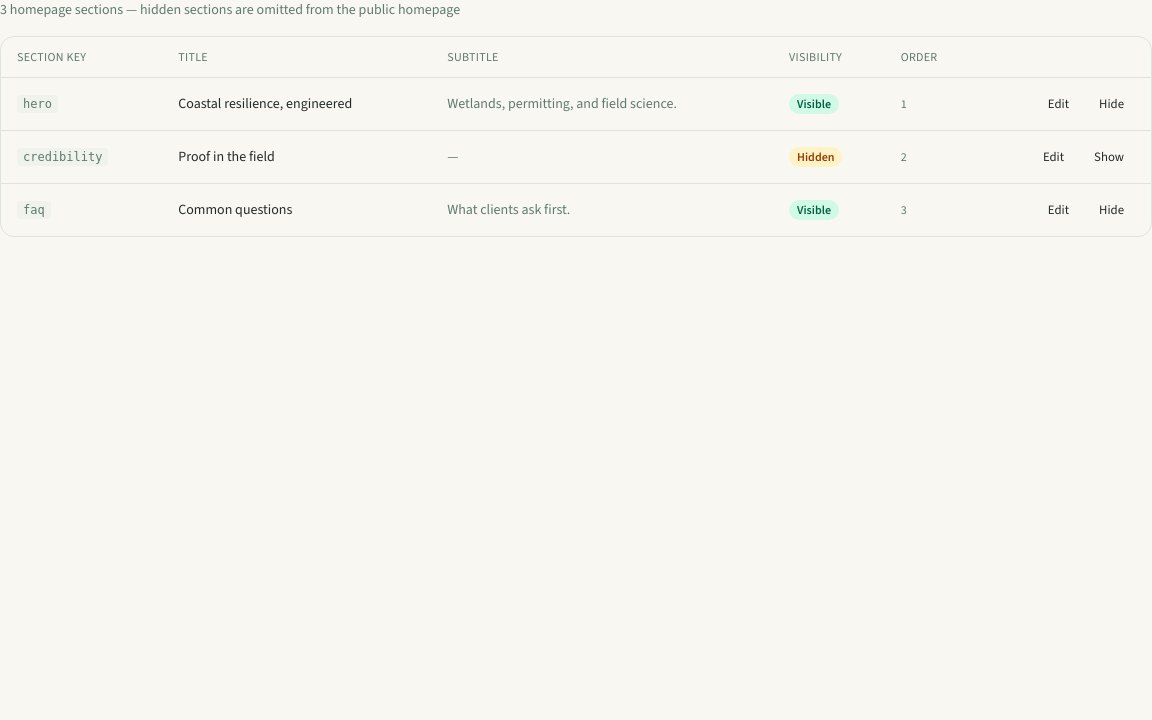
Test: SectionEditorDrawer › surfaces validation errors without touching the database
This screenshot has width=1152, height=720.
Step 1. Click the button with aria-label "Edit Common questions" → [1058, 210], box [1037,196,1080,224]
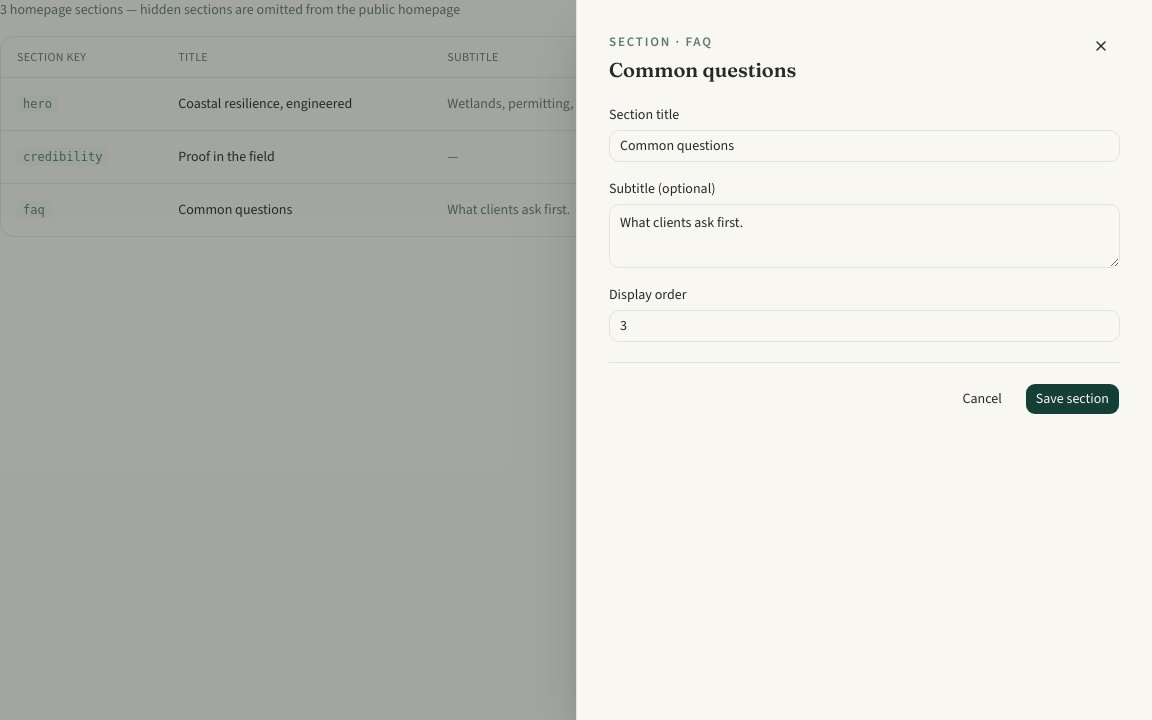
Step 2. Clear the field labelled "Section title" → [864, 146], box [609,130,1120,162]
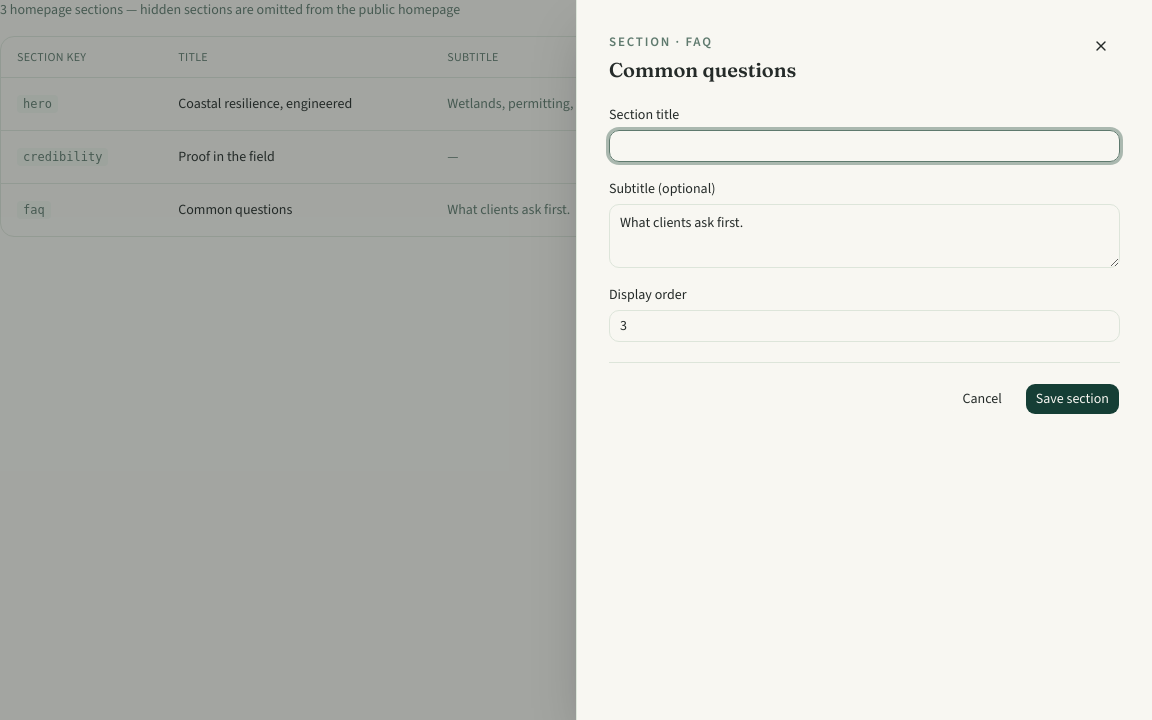
Step 3. Click the button "Save section" → [1072, 398], box [1025,382,1120,414]
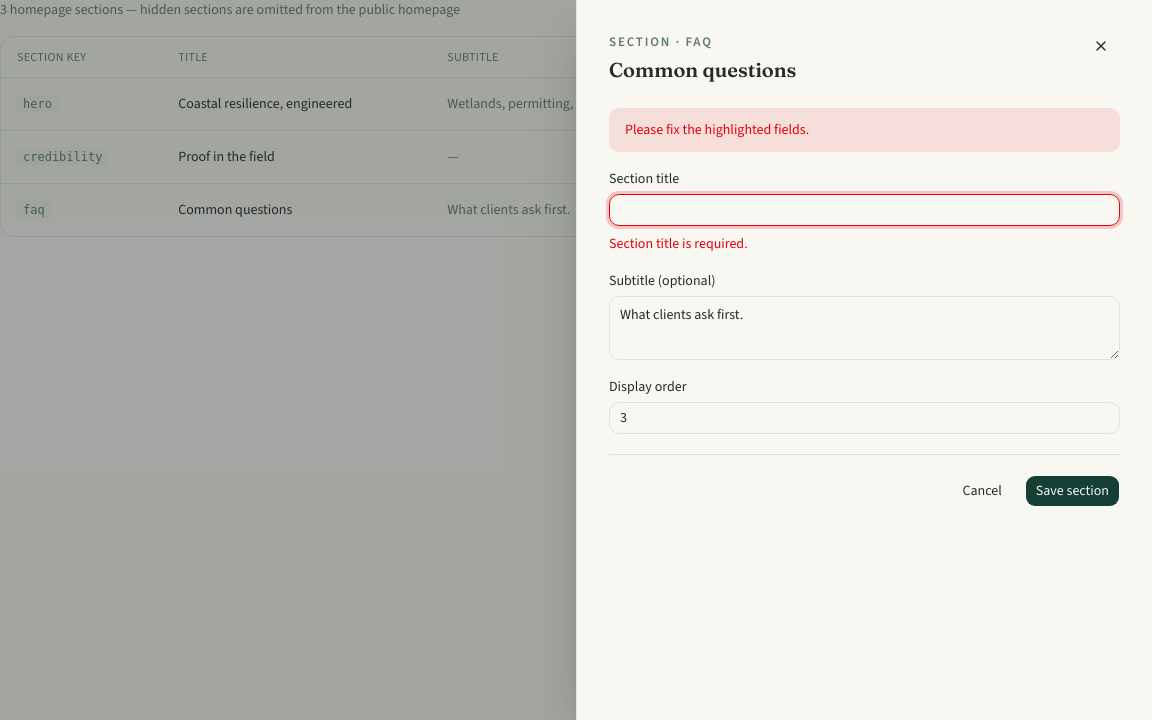
Result: the dialog is shown at [576,0,1151,719]
Result: the text "Section title is required." is shown at [609,234,748,252]
